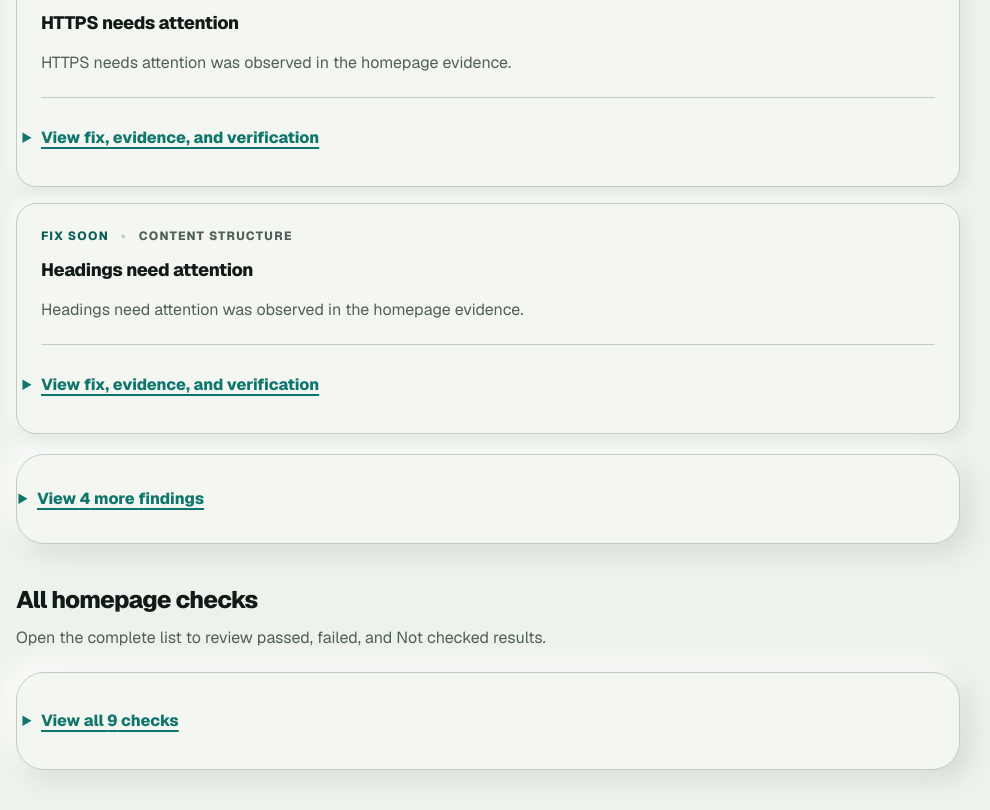
Test case: PublicScanResults › shows target, outcome, timestamps, honest scope, counts, and all checks
(page scrolled)
Click the heading "View all 9 checks" at (110, 721), box [41,710,179,731]
(page scrolled)
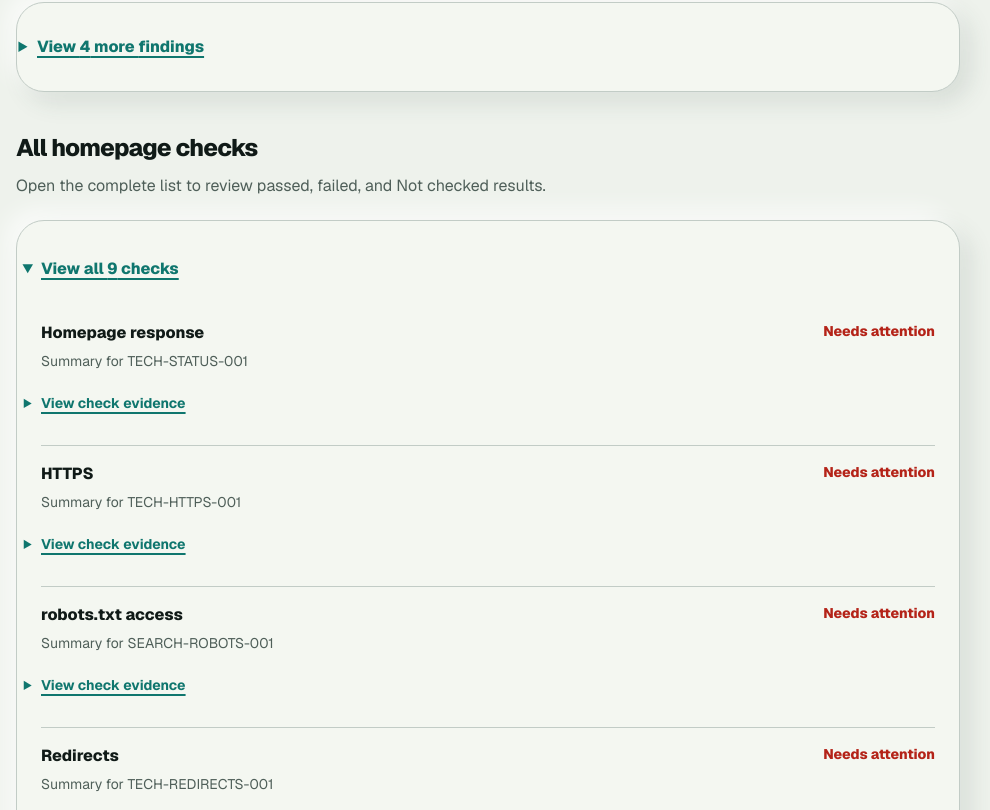
Expected: the text "Homepage response" is shown, [41,322,204,343]
